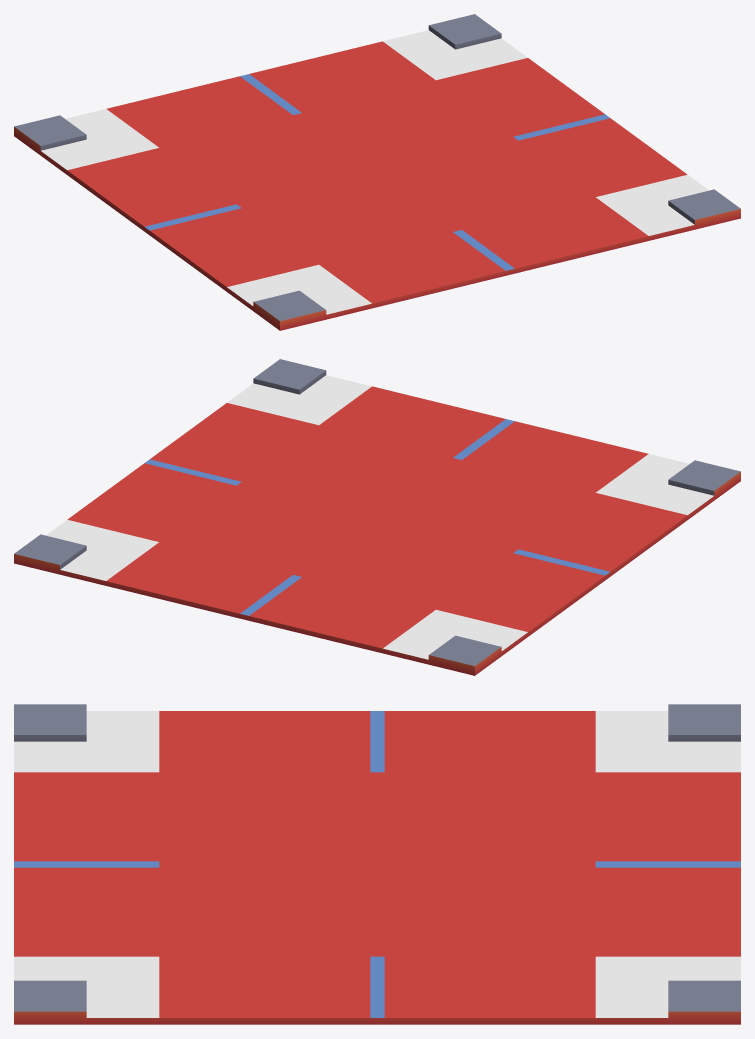
Rendered from Driving_Sim_Model_Intersection_replace.fbx.
3 renders of one model, top to bottom at view 1: azimuth 30°, elevation 25°; view 2: azimuth 150°, elevation 25°; view 3: azimuth 270°, elevation 25°, orthographic. The views are drawn at different scales.
Visible parts, largest first — view 1: Intersection_replace; view 2: Intersection_replace; view 3: Intersection_replace.
Boxes of the visible parts, <box> form: Intersection_replace: <box>14,14,740,330</box>; Intersection_replace: <box>14,359,740,675</box>; Intersection_replace: <box>14,704,740,1024</box>.
Size of the model in its own units: 8 by 0.16 by 8.
